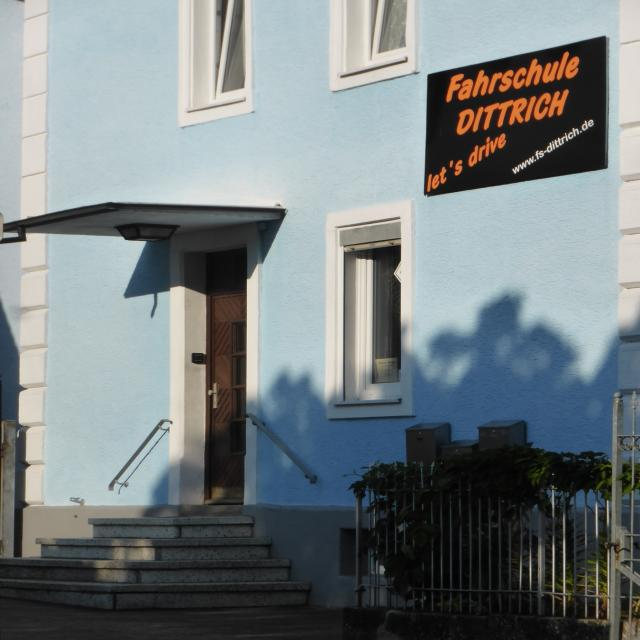AVOID: (0, 507, 311, 614)
